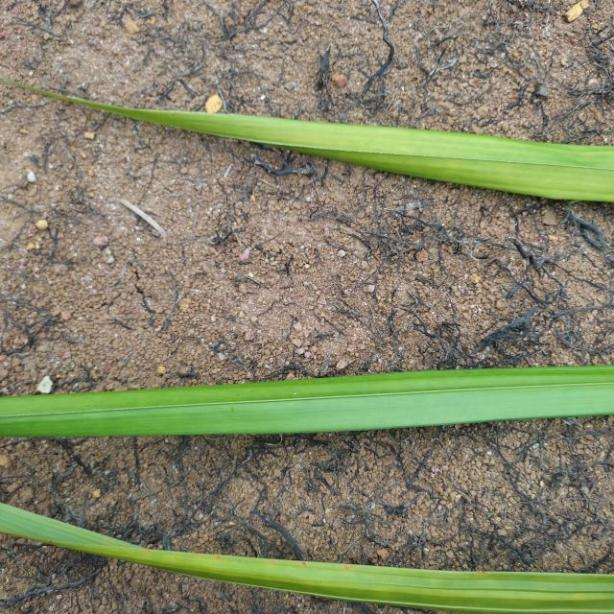nitrogen: (0, 500, 614, 614), (57, 92, 614, 206), (0, 366, 614, 441)
